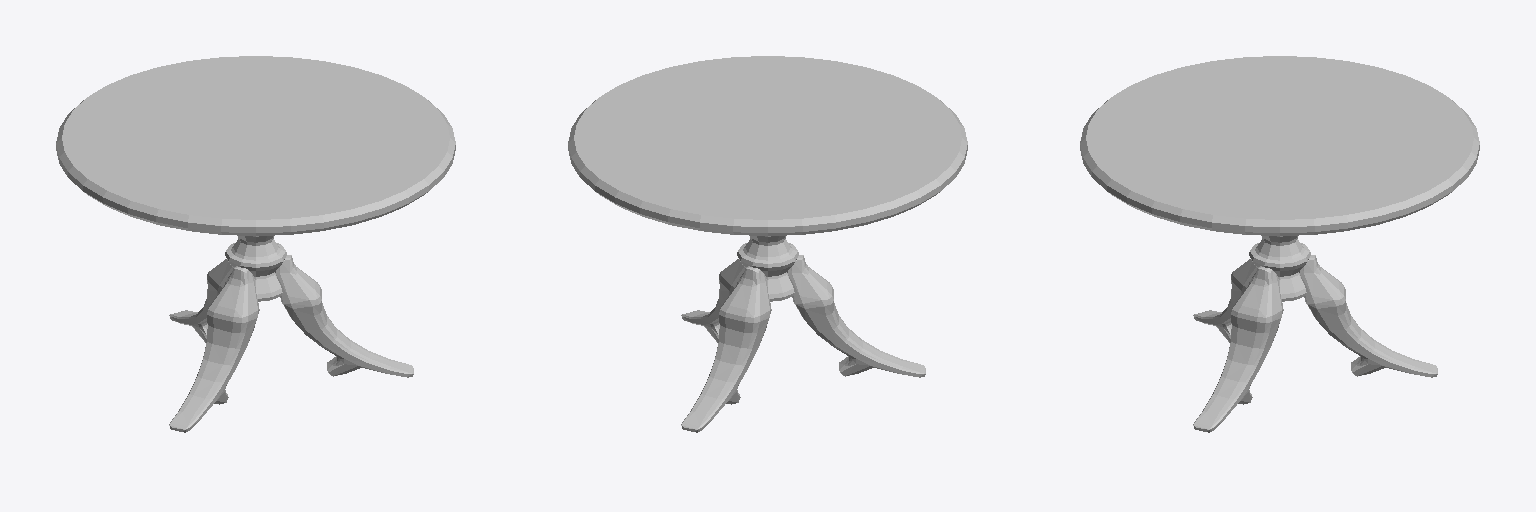
Rendered from wooden_coffe_table.obj.
3 views of the same model, side by side, from view 1: azimuth 30°, elevation 25°; view 2: azimuth 150°, elevation 25°; view 3: azimuth 270°, elevation 25° (orthographic).
Visible parts, largest first — view 1: top, Null; view 2: top, Null; view 3: top, Null.
Part boxes in pixels (left/top/right/bottom): top: left=56, top=56, right=455, bottom=235; Null: left=169, top=236, right=413, bottom=432; top: left=568, top=56, right=967, bottom=235; Null: left=681, top=236, right=925, bottom=432; top: left=1080, top=56, right=1479, bottom=235; Null: left=1193, top=236, right=1437, bottom=432.
Bounding box in the file's own units: 2.28 × 1.49 × 2.28.